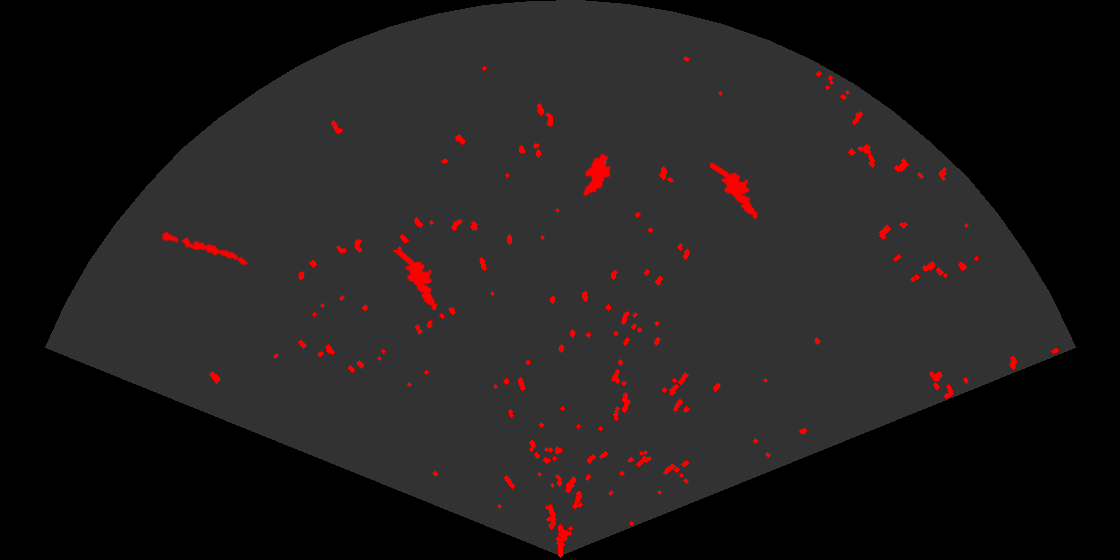AUV: (581, 152, 612, 198)
chain: (158, 230, 250, 267)
frogman: (392, 250, 439, 312), (710, 163, 760, 221)
